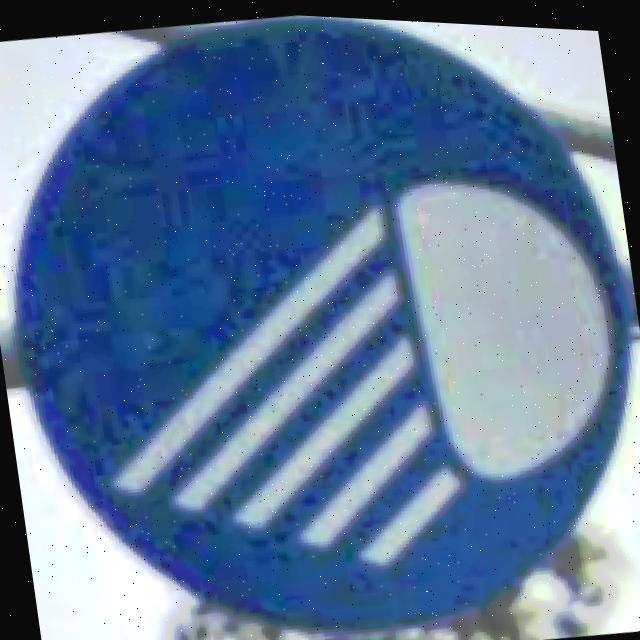lightson: (17, 15, 631, 625)
